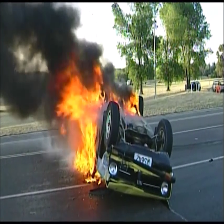fire_h: (53, 50, 105, 174), (123, 88, 141, 116)
fire_l: (107, 86, 120, 104), (85, 171, 101, 184)
